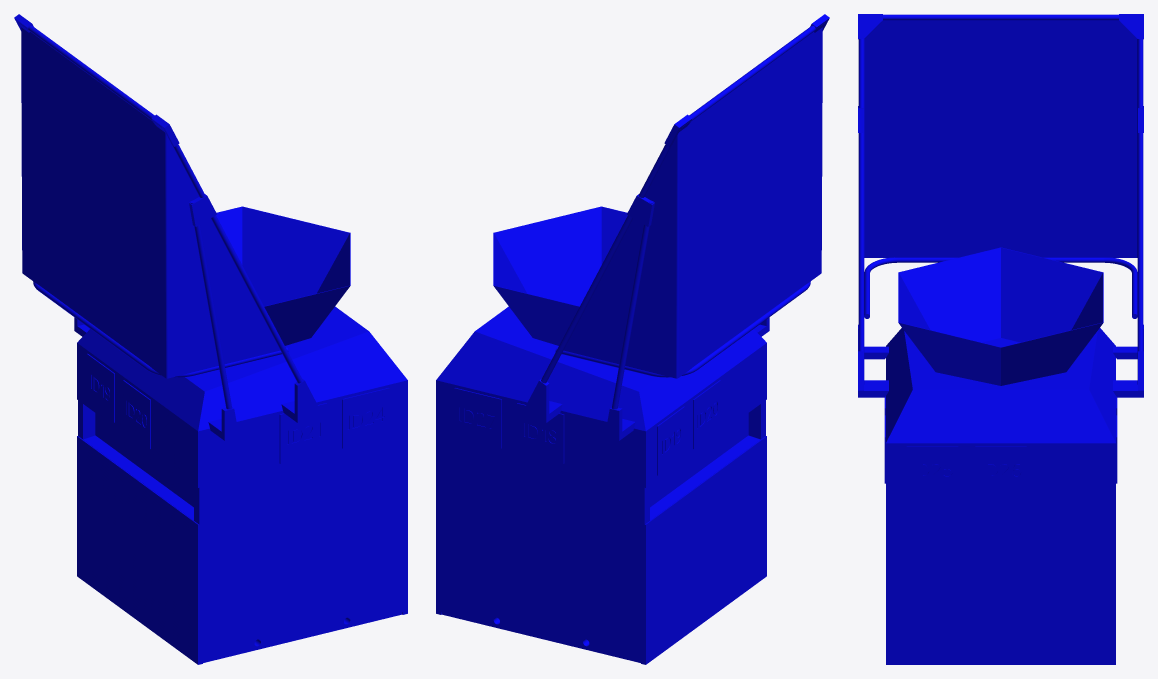
Rendered from BLOCK CAD FIELD - BLOCK CAD- HUB, BLUE.gltf.
The picture shows the model from 3 angles, left to right: view 1: azimuth 30°, elevation 25°; view 2: azimuth 150°, elevation 25°; view 3: azimuth 270°, elevation 25°; orthographic projection. The views are drawn at different scales.
Parts seen in each view (by area): view 1: BLOCK CAD: HUB, BLUE; view 2: BLOCK CAD: HUB, BLUE; view 3: BLOCK CAD: HUB, BLUE.
Boxes of the visible parts, x1,y1,x2,y2 form: BLOCK CAD: HUB, BLUE: [14, 14, 407, 664]; BLOCK CAD: HUB, BLUE: [436, 14, 829, 664]; BLOCK CAD: HUB, BLUE: [858, 14, 1143, 664].
Size of the model in its own units: 1.49 by 3.06 by 1.48.
